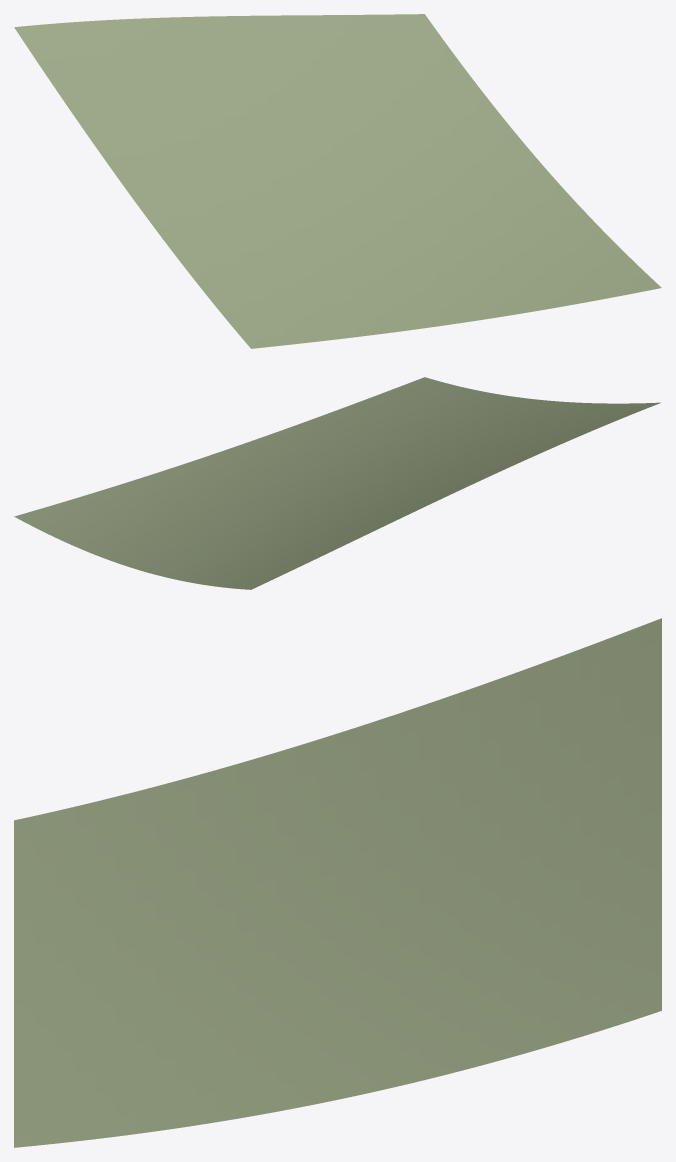
Rendered from alpine-15-13.glb.
3 renders of one model, top to bottom at view 1: azimuth 30°, elevation 25°; view 2: azimuth 210°, elevation 25°; view 3: azimuth 270°, elevation 25°, orthographic. The views are drawn at different scales.
Visible parts, largest first — view 1: alpine-15-13; view 2: alpine-15-13; view 3: alpine-15-13.
Part boxes in pixels (bbox=[...]): alpine-15-13: bbox=[14, 14, 661, 348]; alpine-15-13: bbox=[14, 377, 660, 589]; alpine-15-13: bbox=[14, 618, 661, 1147].
Bounding box in the file's own units: 256 × 112 × 256.
